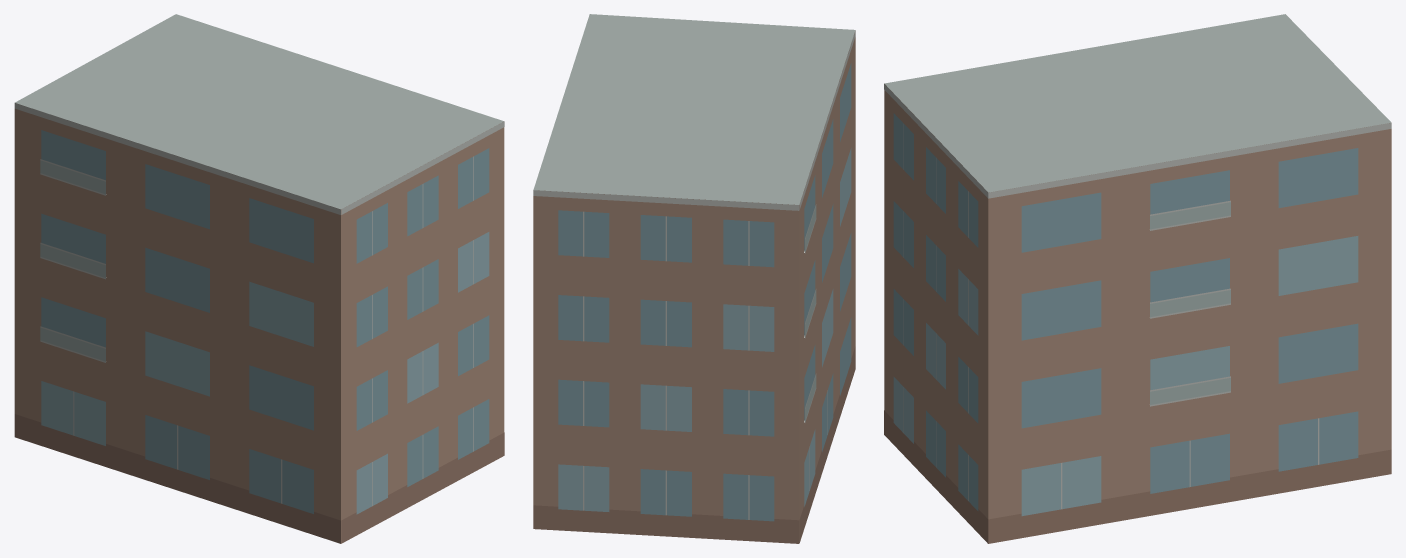
Rendered from survey-upis-33012921.glb.
The picture shows the model from 3 angles, left to right: view 1: azimuth 30°, elevation 25°; view 2: azimuth 150°, elevation 25°; view 3: azimuth 270°, elevation 25°; orthographic projection. The views are drawn at different scales.
Parts seen in each view (by area): view 1: survey-upis-33012921.tmp; view 2: survey-upis-33012921.tmp; view 3: survey-upis-33012921.tmp.
Part boxes in pixels (box(x1,y1,x2,y2)): survey-upis-33012921.tmp: box(14, 14, 504, 543); survey-upis-33012921.tmp: box(533, 14, 855, 543); survey-upis-33012921.tmp: box(884, 14, 1391, 543).
Size of the model in its own units: 15.38 by 14.1 by 18.47.
